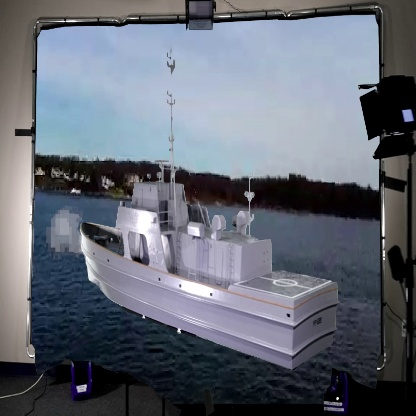YP689: (78, 42, 339, 368)
